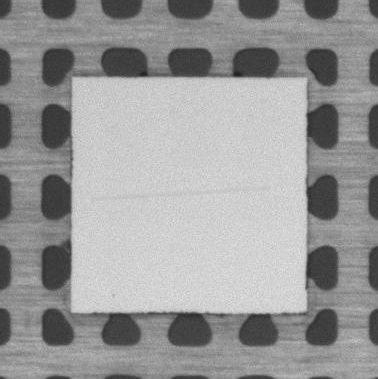DIE_CRACK: (93, 188, 268, 200)
